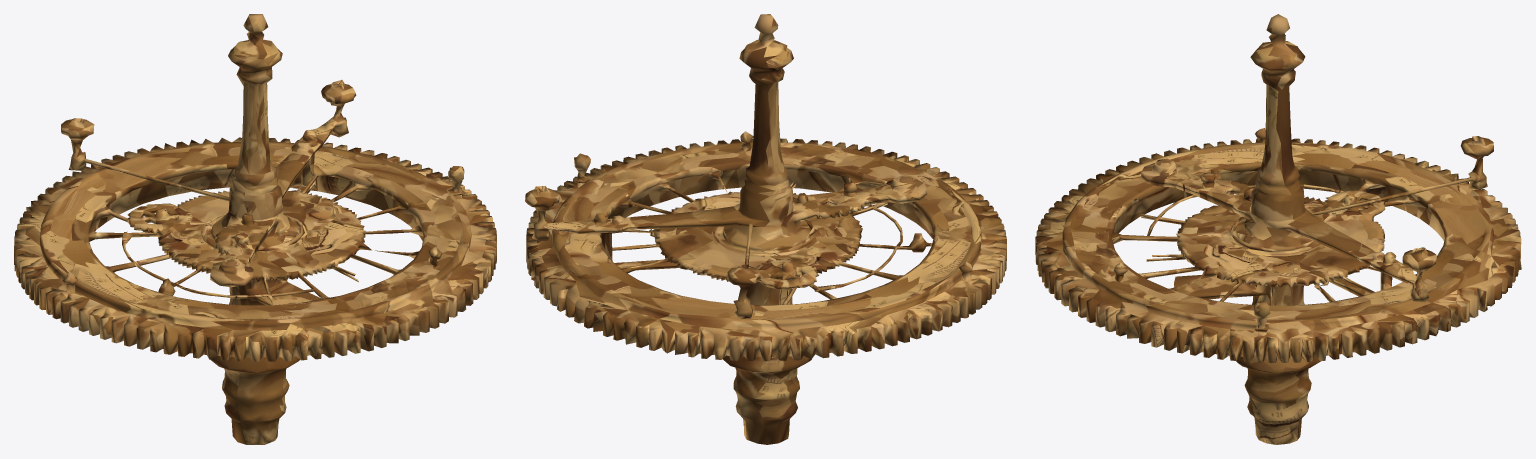
Rendered from EtherVessel_Pillar.gltf.
The picture shows the model from 3 angles, left to right: view 1: azimuth 30°, elevation 25°; view 2: azimuth 150°, elevation 25°; view 3: azimuth 270°, elevation 25°; orthographic projection.
Parts seen in each view (by area): view 1: EtherVessel_Pillar; view 2: EtherVessel_Pillar; view 3: EtherVessel_Pillar.
Boxes of the visible parts, left/top/right/bottom form: EtherVessel_Pillar: left=14, top=14, right=496, bottom=444; EtherVessel_Pillar: left=525, top=14, right=1006, bottom=444; EtherVessel_Pillar: left=1035, top=14, right=1521, bottom=444.
Bounding box in the file's own units: 1.27 × 1.21 × 1.27.
1 material, 1 textured.
